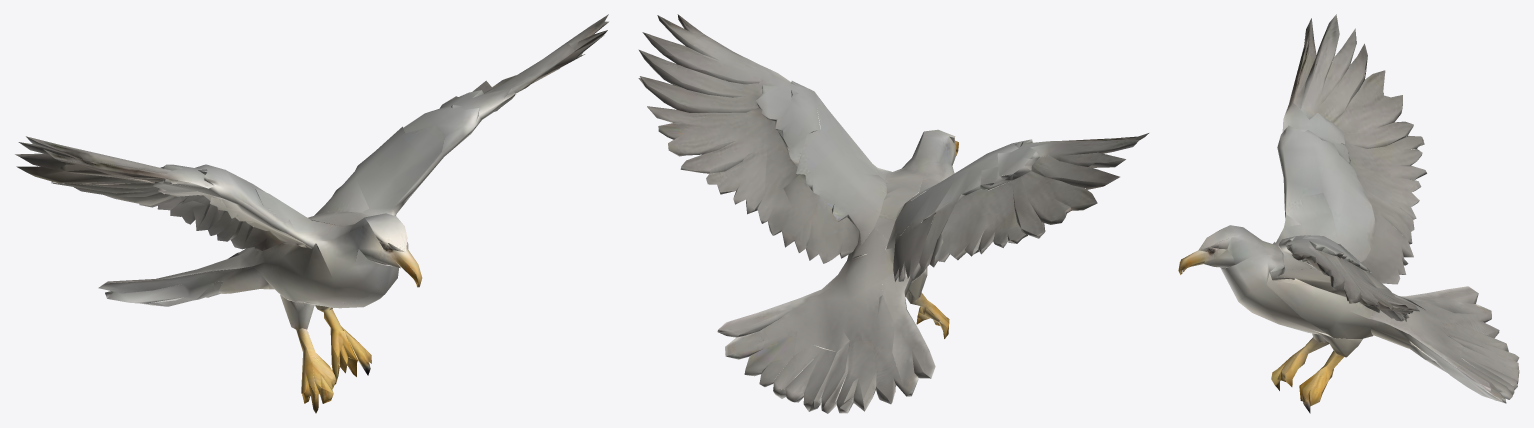
File: base_basic_pbr.glb
3 views of the same model, side by side, from view 1: azimuth 30°, elevation 25°; view 2: azimuth 150°, elevation 25°; view 3: azimuth 270°, elevation 25° (orthographic). The views are drawn at different scales.
Visible parts, largest first — view 1: model; view 2: model; view 3: model.
Part boxes in pixels (<box>): model: <box>15,14,608,413</box>; model: <box>638,14,1148,413</box>; model: <box>1178,14,1519,413</box>.
Bounding box in the file's own units: 1.91 × 0.9981 × 1.14.
1 material, 1 textured.
